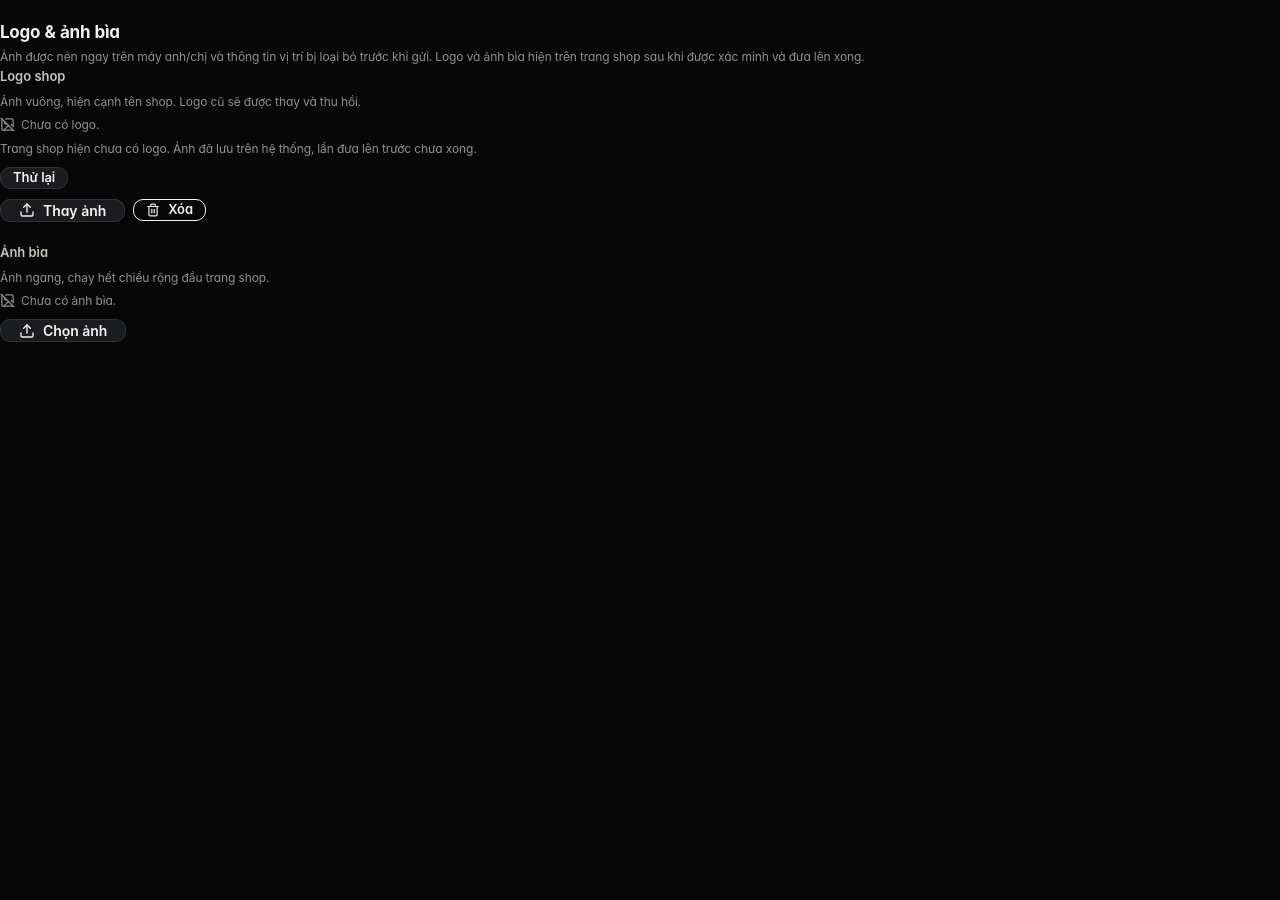
Test: publishing the logo and cover › leaves a pressable button when the 20s timeout fires, not a dead sentence
What coordinates should you click on to do the following:
click the button with aria-label "Thử đưa logo lên trang shop lại"
I would click on:
 (34, 178)
Its box is [0,167,68,189].
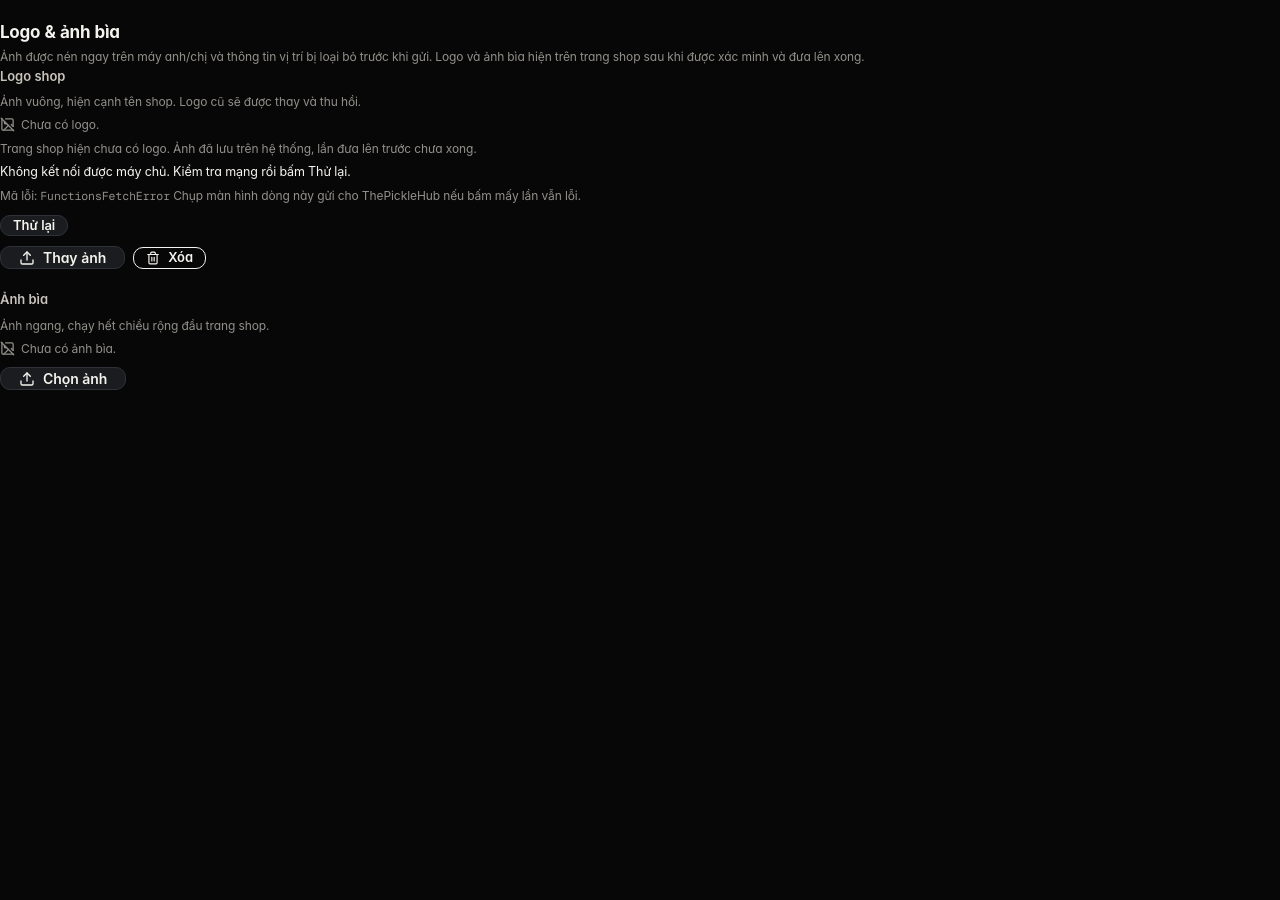
Expected: the button with aria-label "Thử đưa logo lên trang shop lại" is enabled, [0,215,68,236]
Expected: the message reads "Không kết nối được máy chủ. Kiểm tra mạng rồi bấm Thử lại.", [0,164,350,179]
Expected: the text "Mã lỗi:" is shown, [0,188,37,203]
